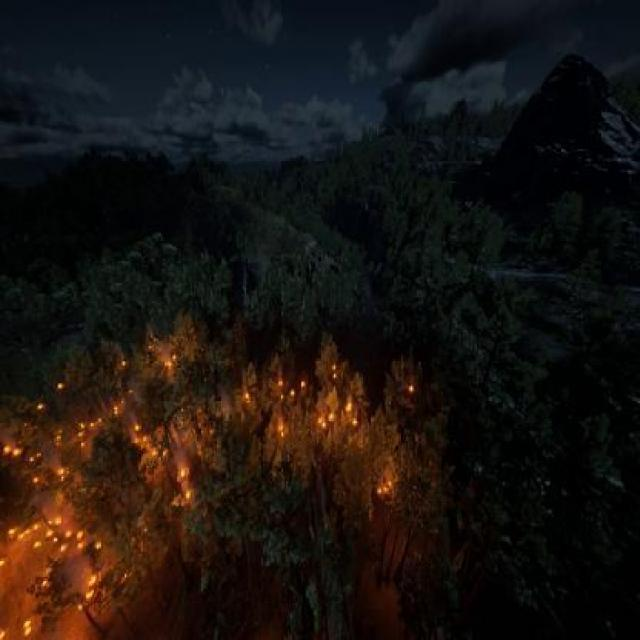Fire: (0, 366, 162, 640)
